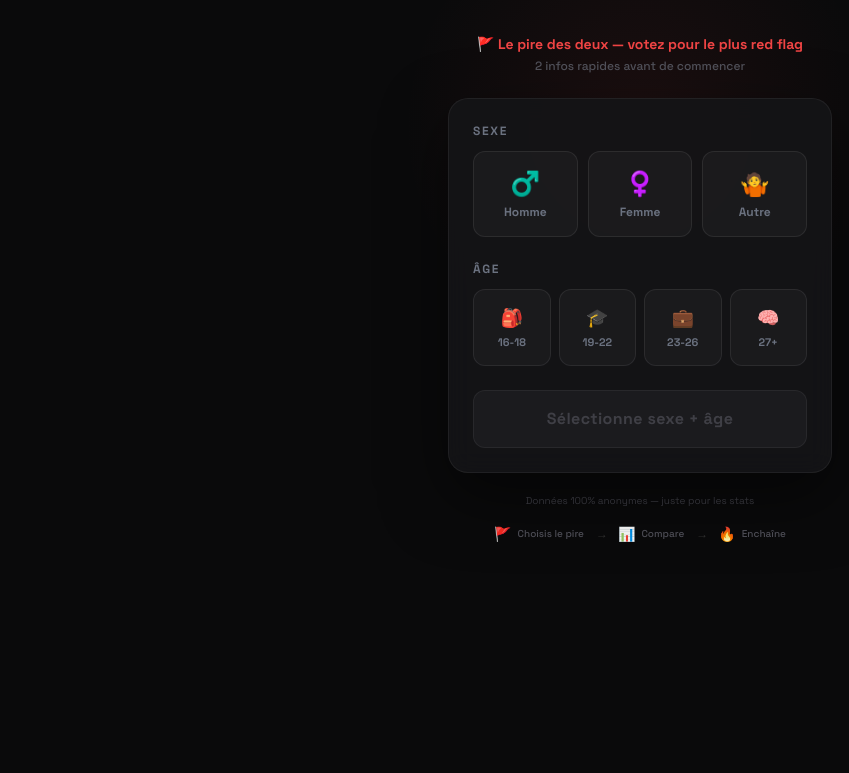
ProfileForm › affiche une erreur si on soumet sans sélectionner de sexe
Click the button "Sélectionne sexe + âge" at coordinates (640, 419), box [473, 390, 807, 448]
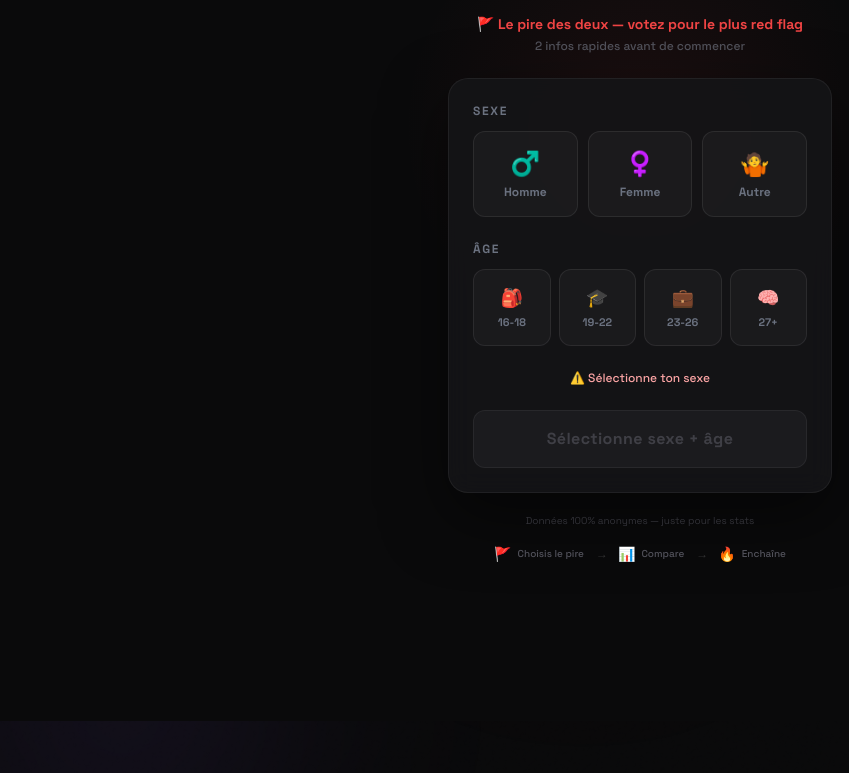
Check: the text "⚠️ Sélectionne ton sexe" is shown, box [570, 370, 710, 386]
